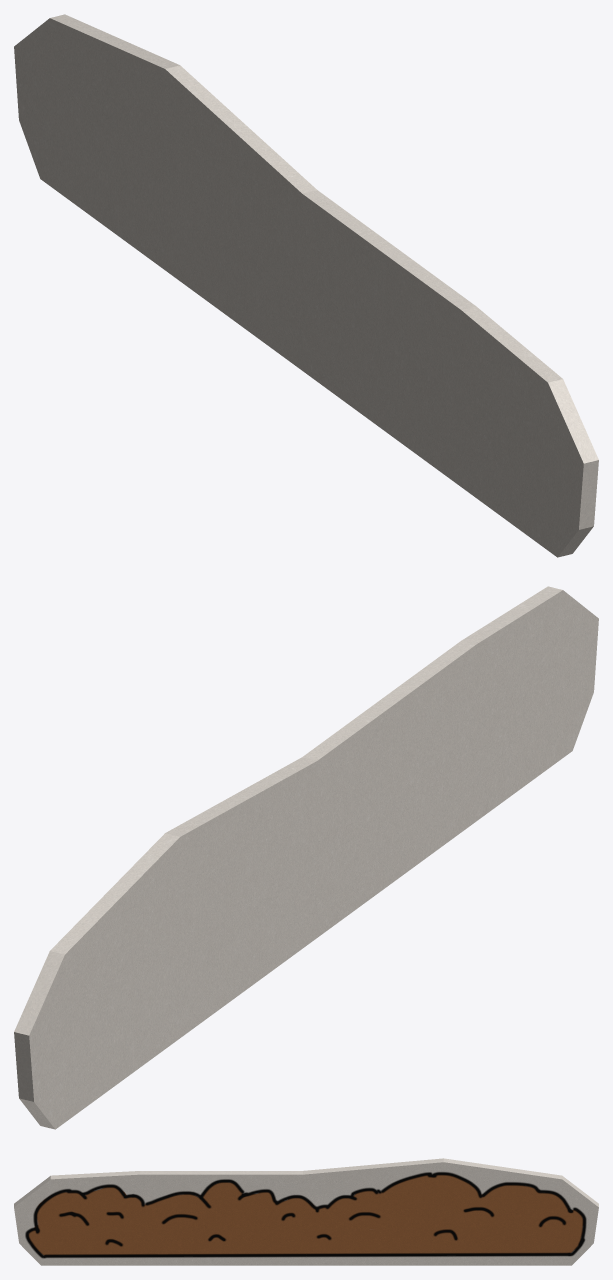
File: Flower Bed.fbx
3 renders of one model, top to bottom at view 1: azimuth 30°, elevation 25°; view 2: azimuth 150°, elevation 25°; view 3: azimuth 270°, elevation 25°, orthographic. The views are drawn at different scales.
Parts seen in each view (by area): view 1: Mud; view 2: Mud; view 3: Mud.
Boxes of the visible parts, x1=… form: Mud: x1=14, y1=14, x2=598, y2=557; Mud: x1=14, y1=586, x2=598, y2=1129; Mud: x1=14, y1=1158, x2=598, y2=1265.
Bounding box in the file's own units: 1.98 × 25.15 × 129.
